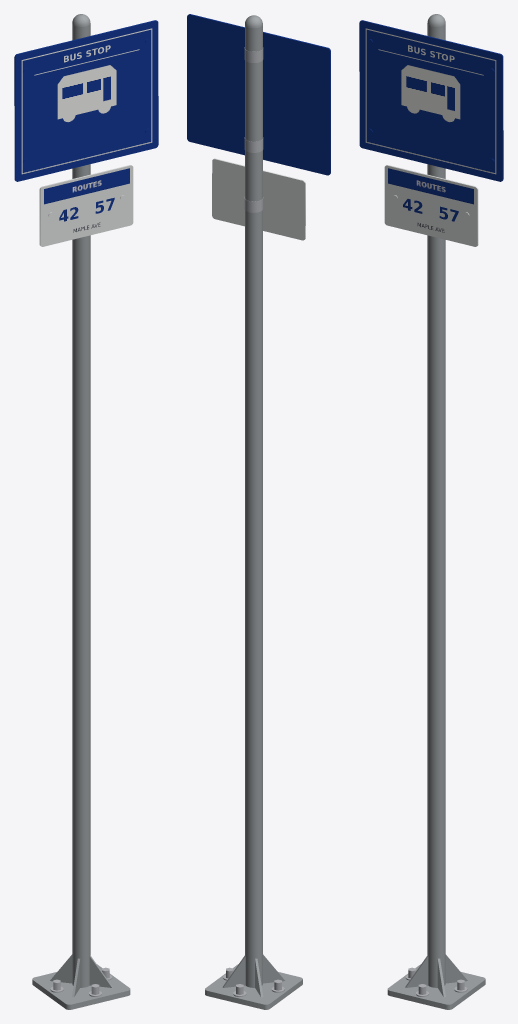
Rendered from bus-stop-sign.glb.
The picture shows the model from 3 angles, left to right: view 1: azimuth 30°, elevation 25°; view 2: azimuth 150°, elevation 25°; view 3: azimuth 330°, elevation 25°; orthographic projection.
Parts seen in each view (by area): view 1: panel.001, Geom, panel, GLTF.001, GLTF, base_flange, base_gussets, anchor_bolts; view 2: Geom, panel.001, panel, base_flange, base_gussets, sign_clamps; view 3: panel.001, Geom, panel, GLTF.001, GLTF, base_flange, base_gussets, anchor_bolts.
Boxes of the visible parts, <box> form: panel.001: <box>14,20,158,181</box>; Geom: <box>72,23,90,987</box>; panel: <box>39,165,133,246</box>; GLTF.001: <box>21,28,152,174</box>; GLTF: <box>44,168,129,232</box>; base_flange: <box>32,964,130,1009</box>; base_gussets: <box>50,954,112,997</box>; anchor_bolts: <box>50,967,112,996</box>; Geom: <box>245,25,262,987</box>; panel.001: <box>187,14,330,175</box>; panel: <box>212,158,305,240</box>; base_flange: <box>205,964,302,1009</box>; base_gussets: <box>222,954,284,997</box>; sign_clamps: <box>244,47,263,212</box>; panel.001: <box>359,20,503,181</box>; Geom: <box>427,23,445,987</box>; panel: <box>384,165,478,246</box>; GLTF.001: <box>365,28,496,174</box>; GLTF: <box>388,168,473,232</box>; base_flange: <box>387,964,485,1009</box>; base_gussets: <box>405,954,467,997</box>; anchor_bolts: <box>405,967,467,996</box>.
Bounding box in the file's own units: 0.4 × 2.6 × 0.18.
6 materials, 2 textured.
